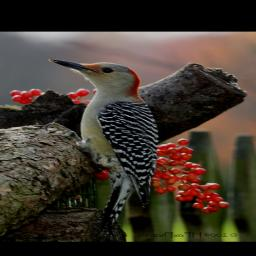Woodpecker: (41, 55, 158, 241)
